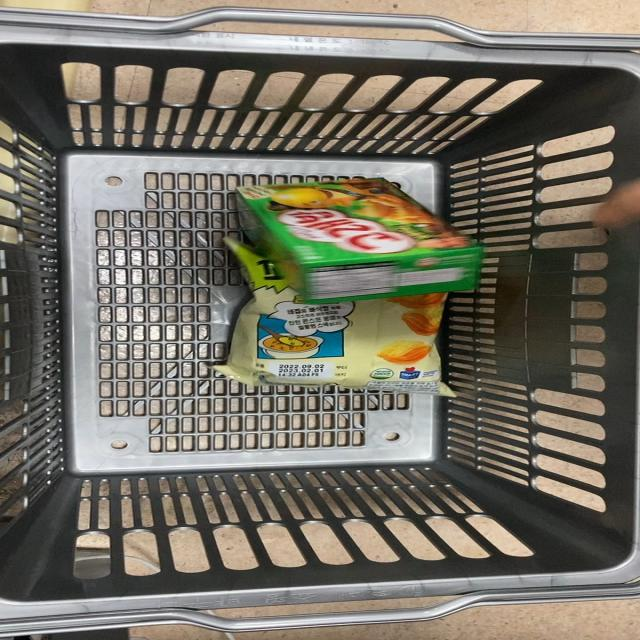ggobukchip: (202, 258, 468, 396)
goraebob: (253, 166, 483, 290)
